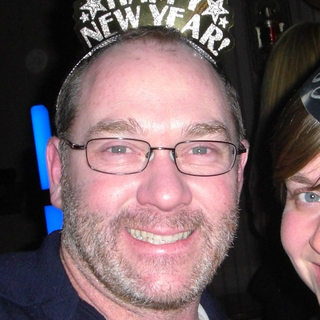eye: (95, 140, 142, 159), (287, 185, 320, 207), (179, 143, 220, 160)
